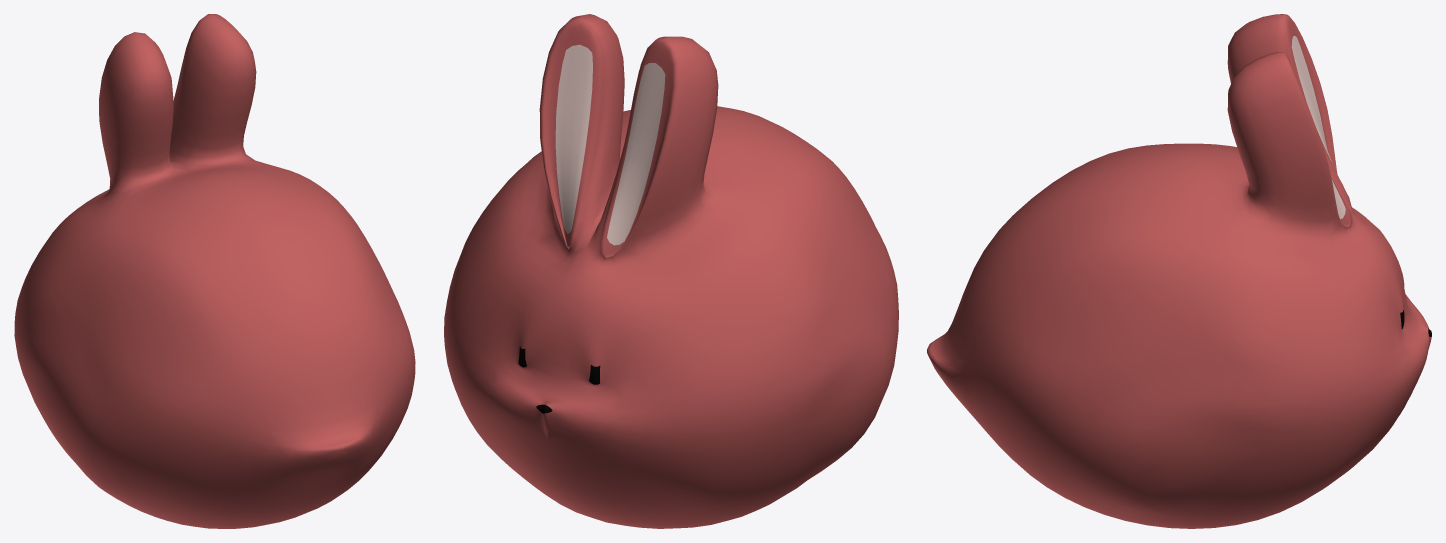
File: prey_23.glb
3 renders of one model, left to right at view 1: azimuth 30°, elevation 25°; view 2: azimuth 150°, elevation 25°; view 3: azimuth 270°, elevation 25°, orthographic. The views are drawn at different scales.
Visible parts, largest first — view 1: Cube; view 2: Cube; view 3: Cube.
Part boxes in pixels (left/top/right/bottom): Cube: left=14, top=14, right=415, bottom=528; Cube: left=444, top=14, right=898, bottom=528; Cube: left=927, top=14, right=1431, bottom=528.
Size of the model in its own units: 4.03 by 5.34 by 5.15.
